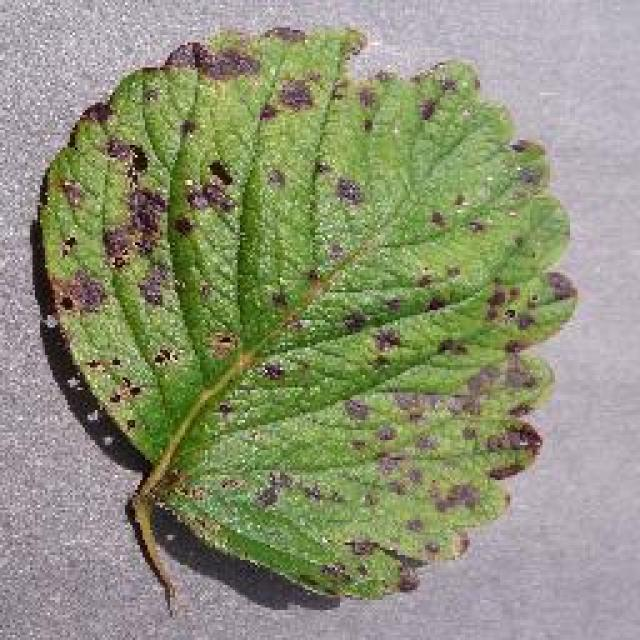Strawberry leaf scorch: (70, 20, 565, 563)
